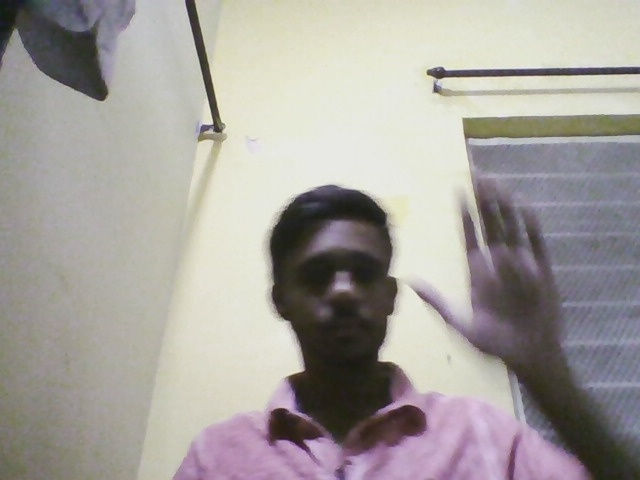hello: (400, 164, 580, 415)
